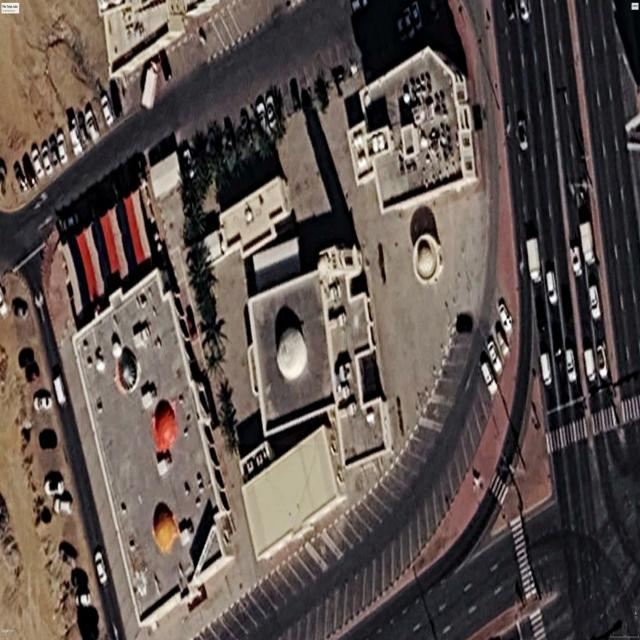mosque: (247, 246, 392, 467)
